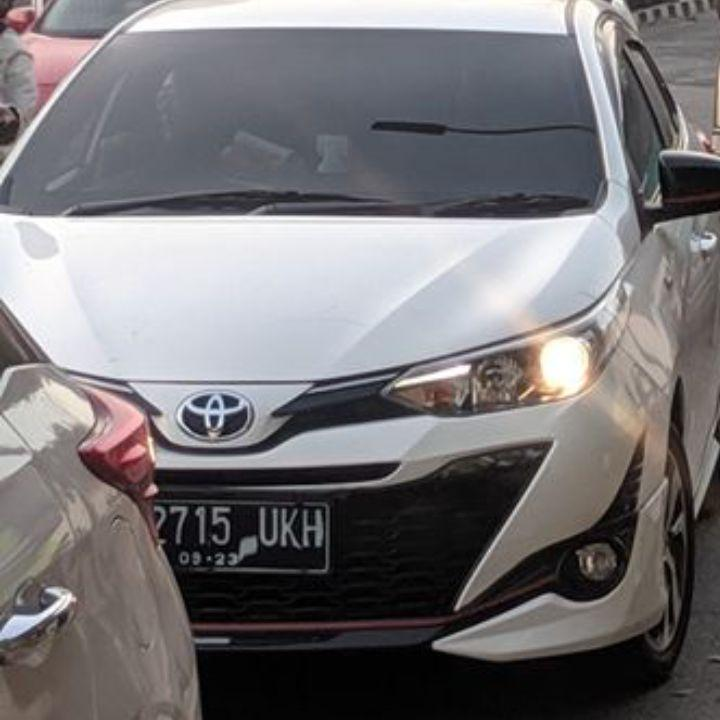plat: (156, 501, 330, 574)
